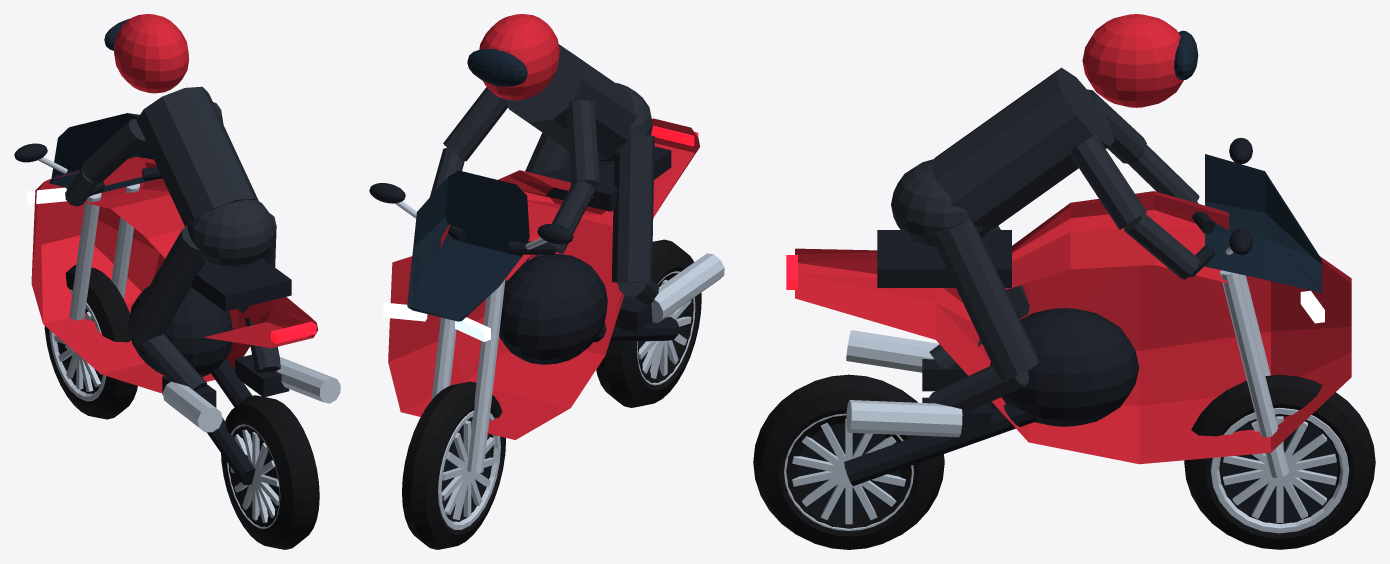
The model's file is superbike.glb.
The picture shows the model from 3 angles, left to right: view 1: azimuth 30°, elevation 25°; view 2: azimuth 150°, elevation 25°; view 3: azimuth 270°, elevation 25°; orthographic projection. The views are drawn at different scales.
Visible parts, largest first — view 1: body, wheel-1, wheel-0; view 2: body, wheel-0, wheel-1; view 3: body, wheel-0, wheel-1.
Boxes of the visible parts, box(x1,y1,x2,y2) form: body: box(14, 14, 340, 485); wheel-1: box(221, 395, 319, 549); wheel-0: box(44, 265, 137, 419); body: box(369, 14, 724, 472); wheel-0: box(402, 381, 505, 549); wheel-1: box(596, 239, 701, 407); body: box(786, 14, 1351, 485); wheel-0: box(1184, 375, 1375, 549); wheel-1: box(753, 374, 944, 549).
Size of the model in its own units: 0.87 by 1.96 by 2.08.
